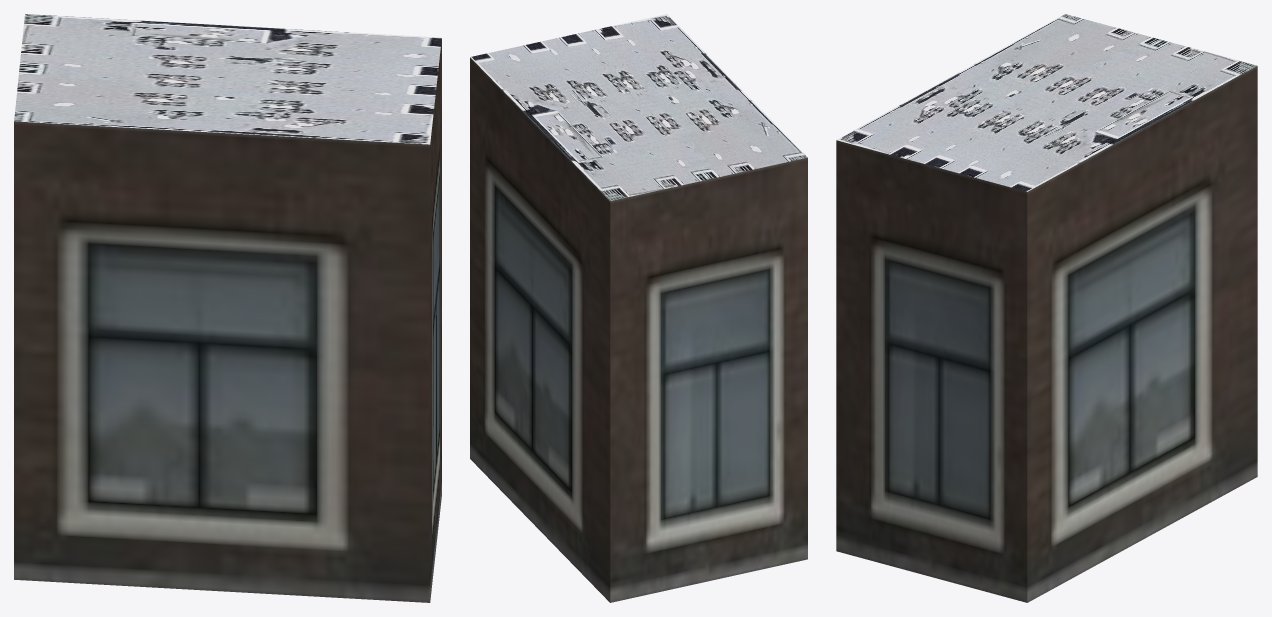
Rendered from ResTex__2401.fbx.
3 views of the same model, side by side, from view 1: azimuth 30°, elevation 25°; view 2: azimuth 150°, elevation 25°; view 3: azimuth 270°, elevation 25° (orthographic). The views are drawn at different scales.
Visible parts, largest first — view 1: CityEngineMaterial_16_m, CityEngineMaterial_15_m; view 2: CityEngineMaterial_16_m, CityEngineMaterial_15_m; view 3: CityEngineMaterial_16_m, CityEngineMaterial_15_m.
Boxes of the visible parts, x1,y1,x2,y2 form: CityEngineMaterial_16_m: (14,38,441,602); CityEngineMaterial_15_m: (14,14,441,144); CityEngineMaterial_16_m: (470,57,807,602); CityEngineMaterial_15_m: (470,14,807,200); CityEngineMaterial_16_m: (836,66,1257,602); CityEngineMaterial_15_m: (836,14,1257,191).
Bounding box in the file's own units: 2.78 × 3 × 2.79.
2 materials, 2 textured.
